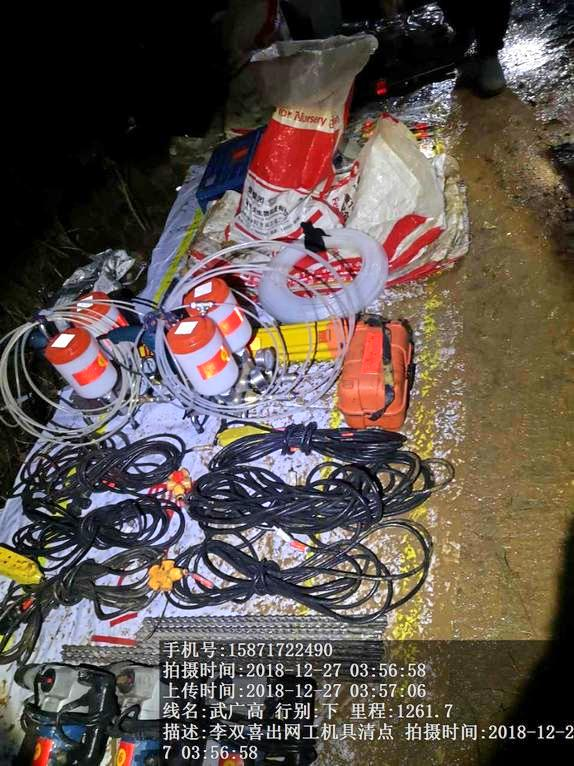BZD: (237, 44, 376, 232)
DX: (165, 533, 418, 620), (185, 470, 431, 533)
SG: (258, 227, 393, 318)
